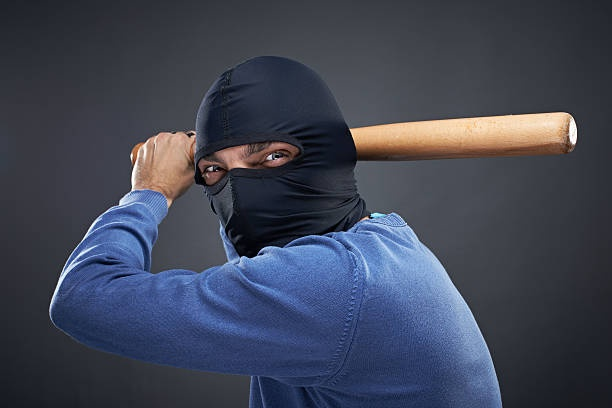bita: (357, 107, 575, 176)
